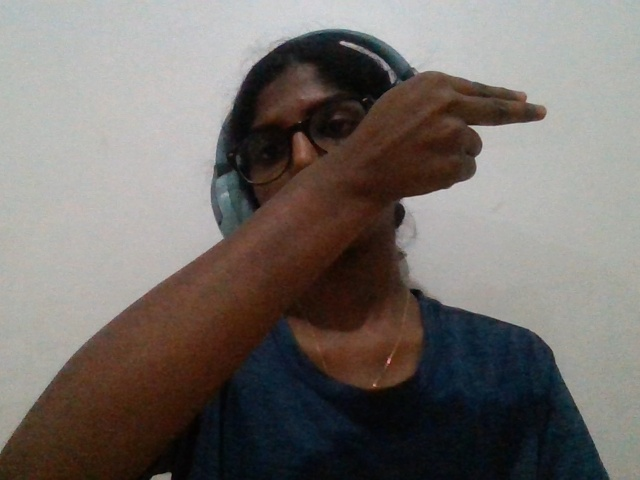H: (244, 60, 605, 271)
